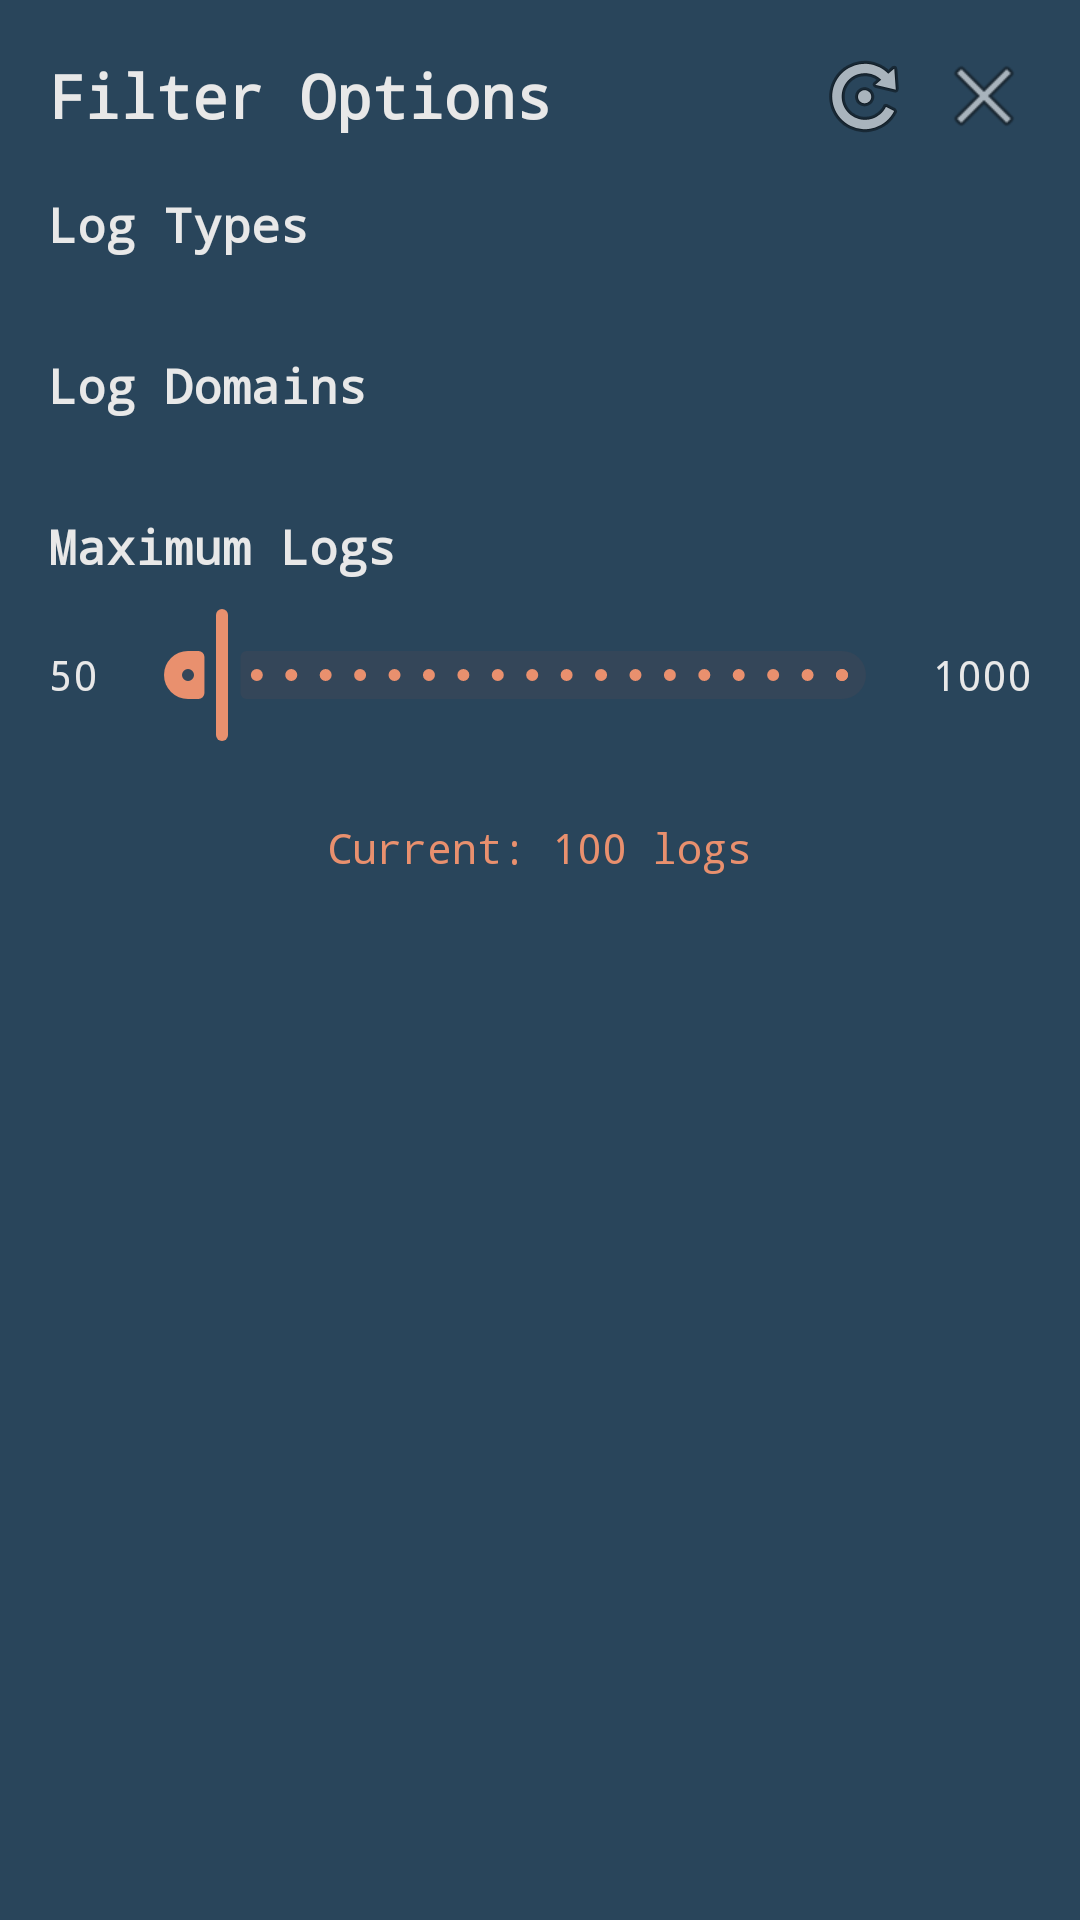

Screen size 1080px x 1920px. Icon name, then its center in pixels as (x,y):
Close: (984,96)
Reset filters: (864,96)
